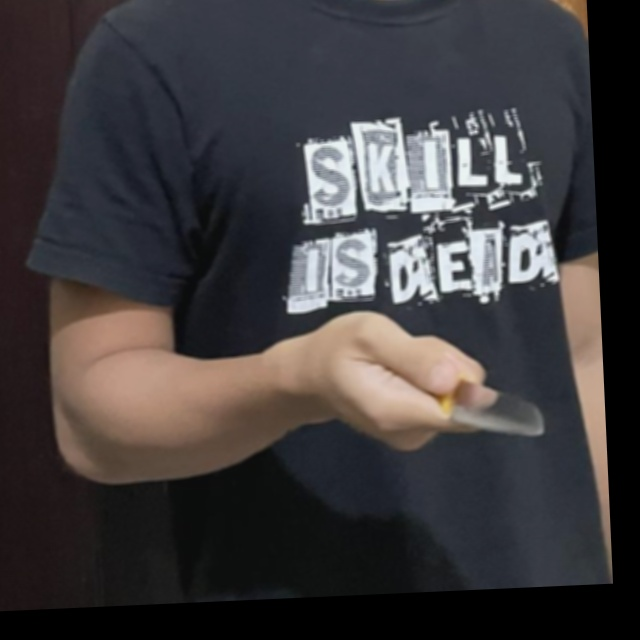Sharp-Object: (415, 370, 550, 445)
